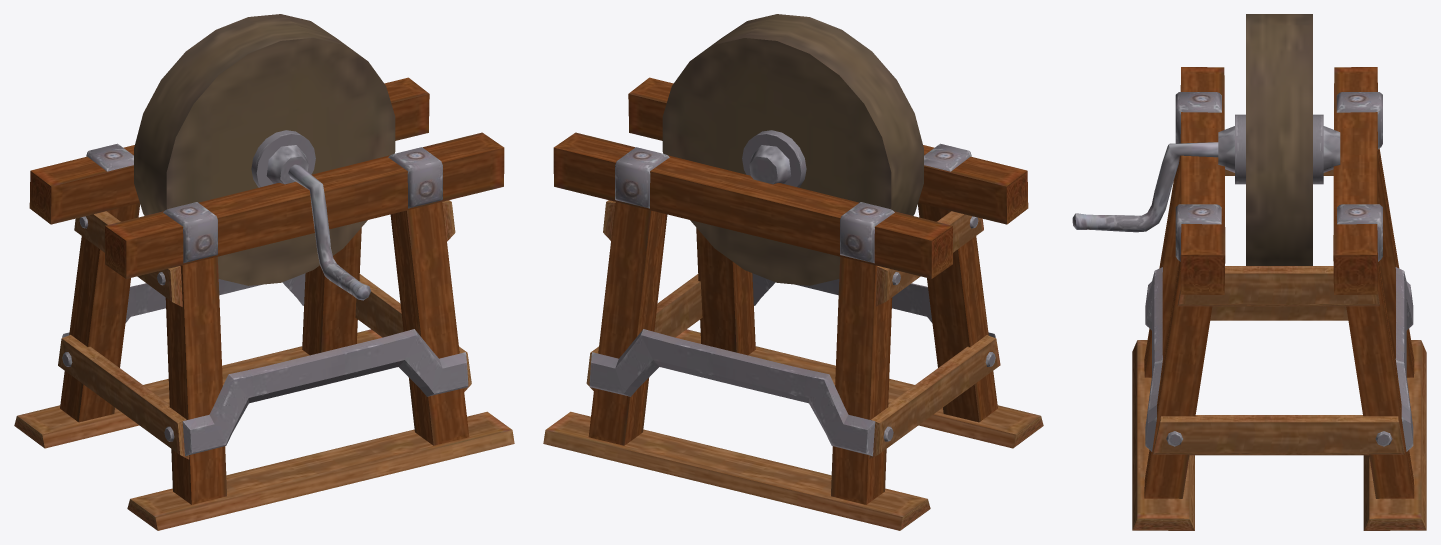
Rendered from whetstone.glb.
3 renders of one model, left to right at view 1: azimuth 30°, elevation 25°; view 2: azimuth 150°, elevation 25°; view 3: azimuth 270°, elevation 25°, orthographic. The views are drawn at different scales.
Parts seen in each view (by area): view 1: Whetstone.001; view 2: Whetstone.001; view 3: Whetstone.001.
Part boxes in pixels (x1,y1,x2,y2): Whetstone.001: (14,14,514,530); Whetstone.001: (543,14,1043,530); Whetstone.001: (1072,14,1426,530).
Size of the model in its own units: 1.14 by 1.17 by 0.9018.
3 materials, 3 textured.
